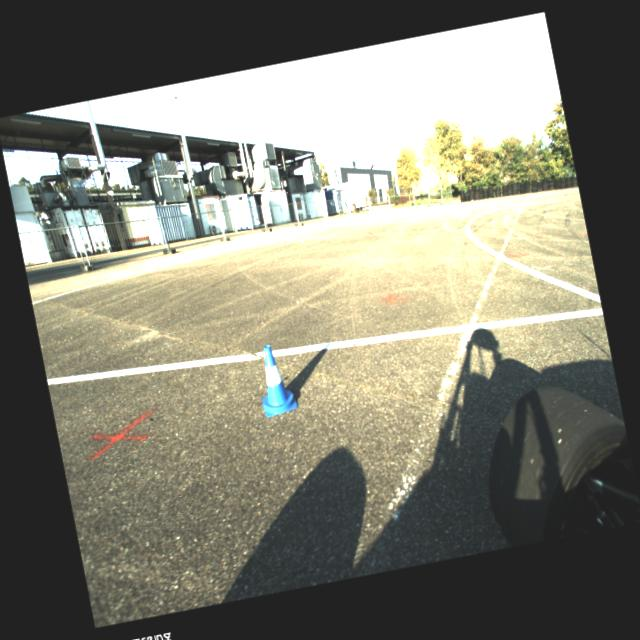blue_cone: (252, 342, 299, 418)
